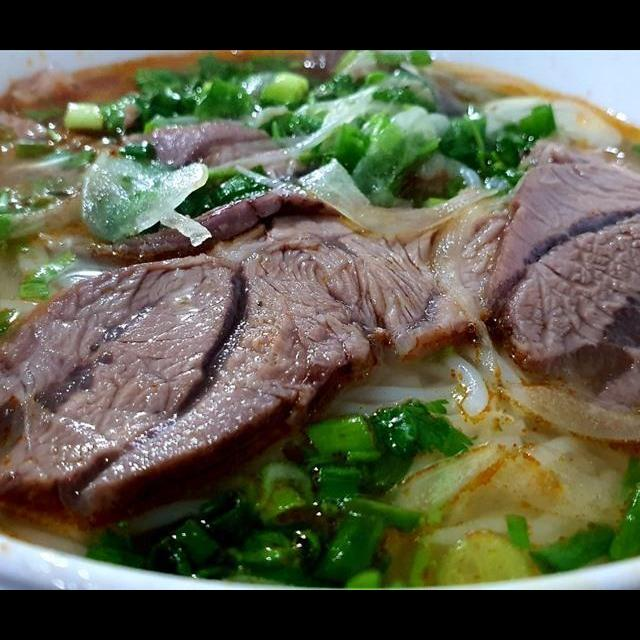bun: (309, 327, 634, 561), (0, 231, 85, 384)
bun bo: (0, 79, 640, 555)
thit bo: (0, 168, 545, 542), (464, 125, 640, 440), (58, 92, 367, 266)
